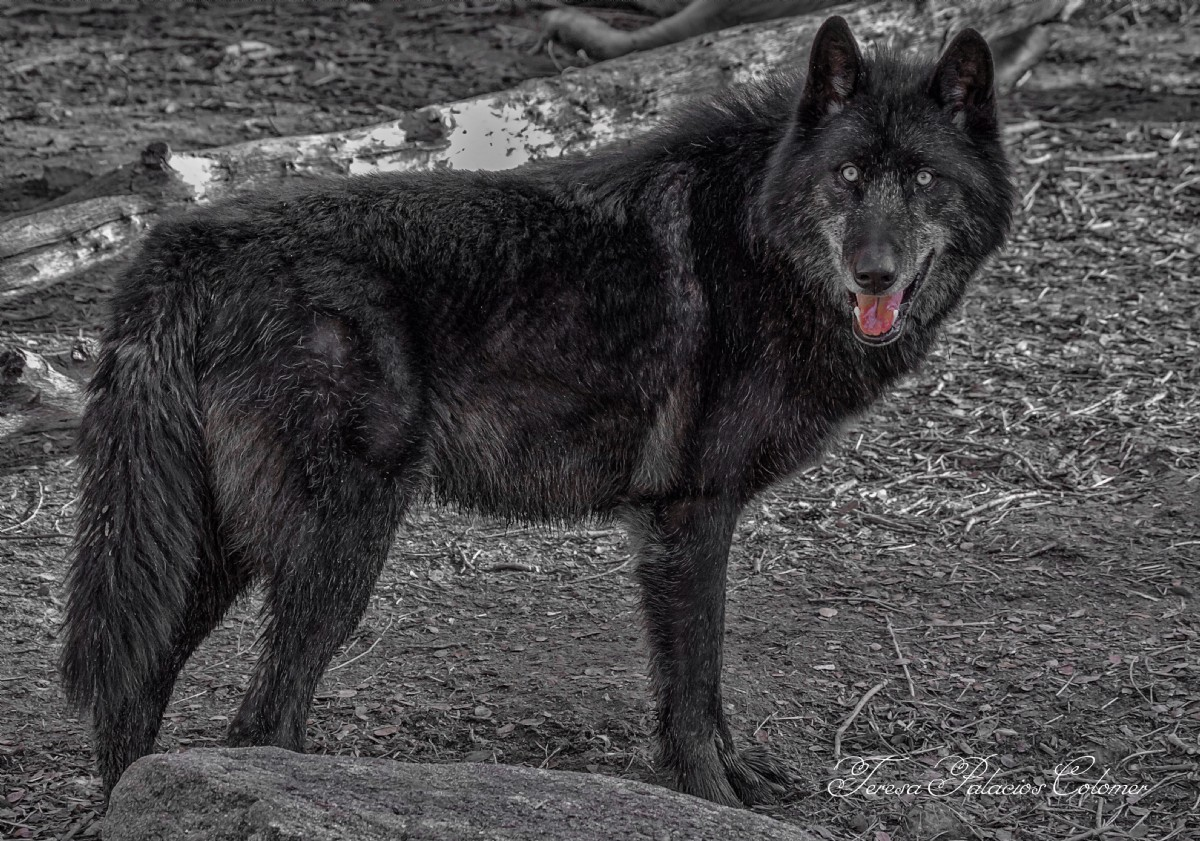Lobo: (66, 31, 1039, 754)
